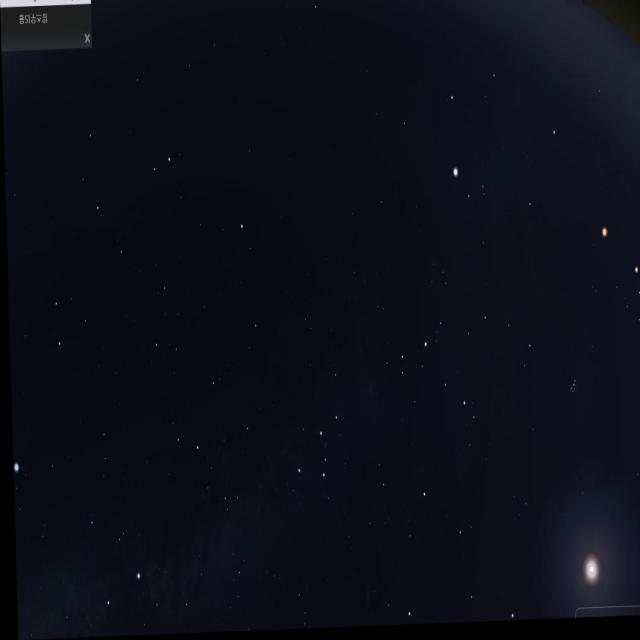cassiopeia: (280, 366, 348, 499)
moon: (552, 505, 620, 623)
pleiades: (561, 369, 583, 415)
